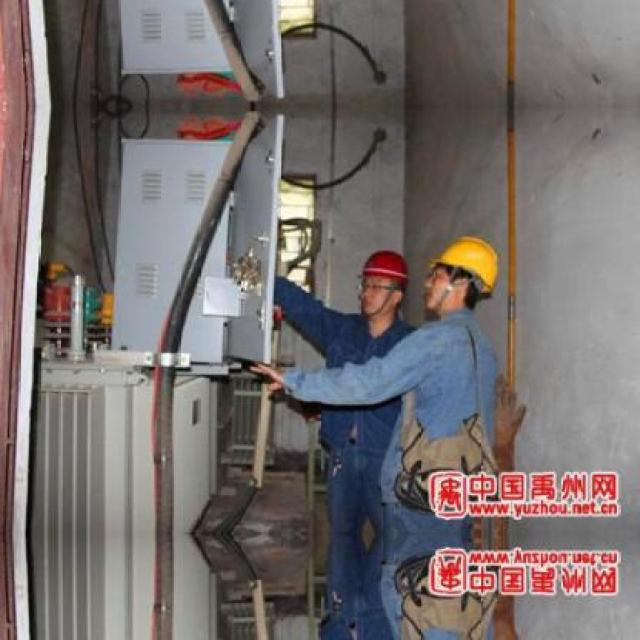helmet: (420, 229, 503, 315), (356, 246, 413, 317)
